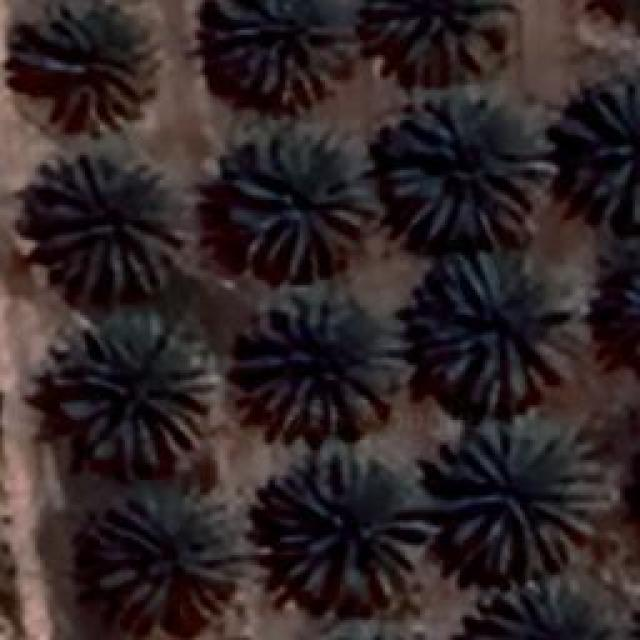PalmTree: (432, 418, 606, 572), (380, 95, 555, 248), (415, 252, 583, 410), (238, 288, 410, 440), (49, 312, 212, 470), (270, 450, 425, 602), (228, 125, 378, 280), (32, 155, 190, 300), (92, 484, 240, 618), (22, 2, 150, 130), (210, 0, 355, 110), (368, 0, 510, 85), (454, 577, 612, 640), (587, 82, 635, 220), (595, 246, 640, 376)
